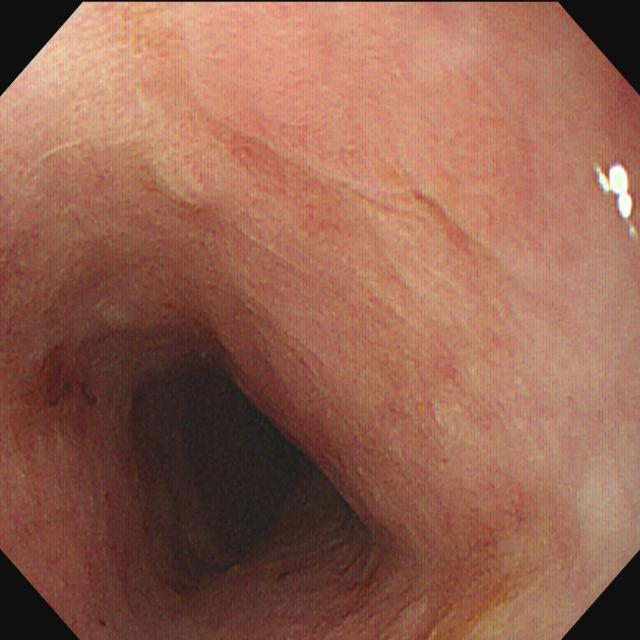E: (115, 331, 372, 613)
J: (10, 350, 100, 439)
U: (594, 160, 636, 221)
